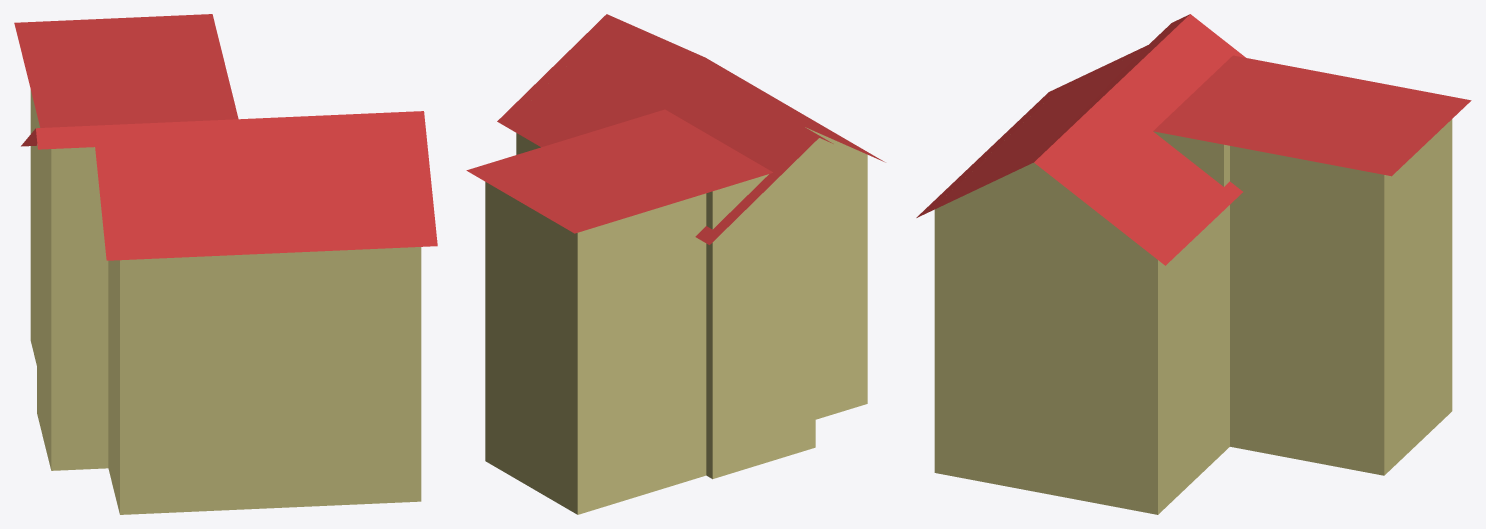
The picture shows the model from 3 angles, left to right: view 1: azimuth 30°, elevation 25°; view 2: azimuth 150°, elevation 25°; view 3: azimuth 270°, elevation 25°; orthographic projection. The views are drawn at different scales.
Bounding box in the file's own units: 14.18 × 18.86 × 12.56.
